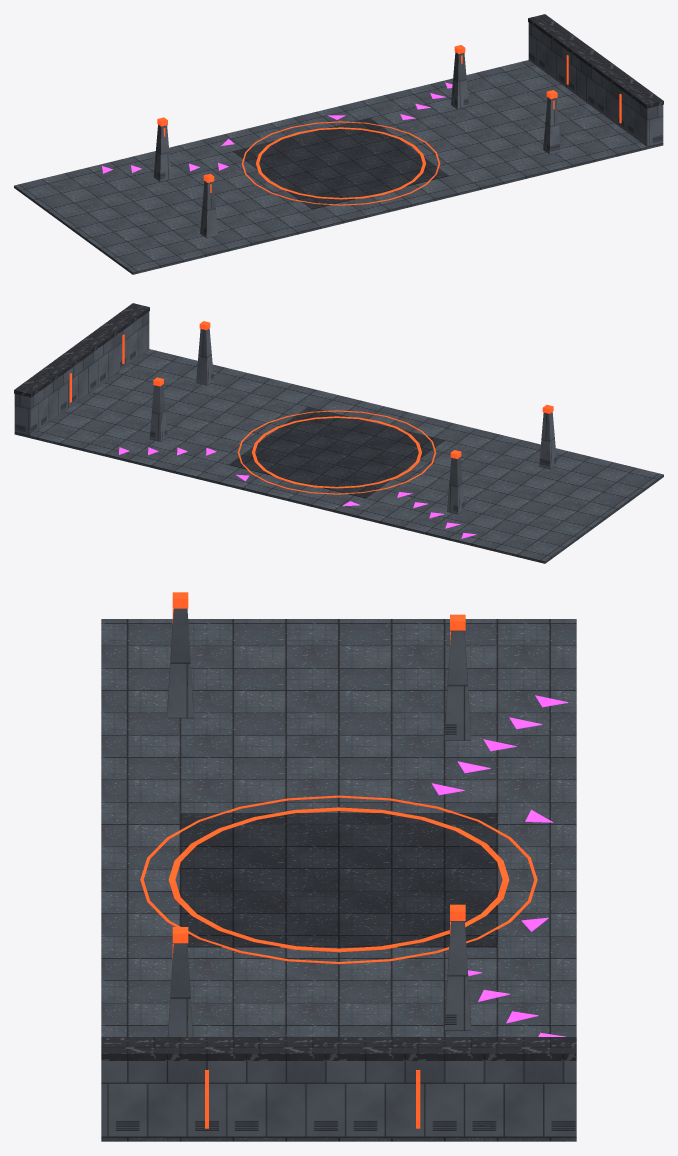
Rendered from env_court_e.glb.
The picture shows the model from 3 angles, top to bottom: view 1: azimuth 30°, elevation 25°; view 2: azimuth 150°, elevation 25°; view 3: azimuth 270°, elevation 25°; orthographic projection. The views are drawn at different scales.
Parts seen in each view (by area): view 1: env_court_e; view 2: env_court_e; view 3: env_court_e.
Part boxes in pixels (x1,y1,x2,y2): env_court_e: (14,14,663,274); env_court_e: (14,303,663,563); env_court_e: (101,592,576,1141).
Size of the model in its own units: 46.5 by 5.1 by 18.
Materials: 6 (6 with a texture image).
